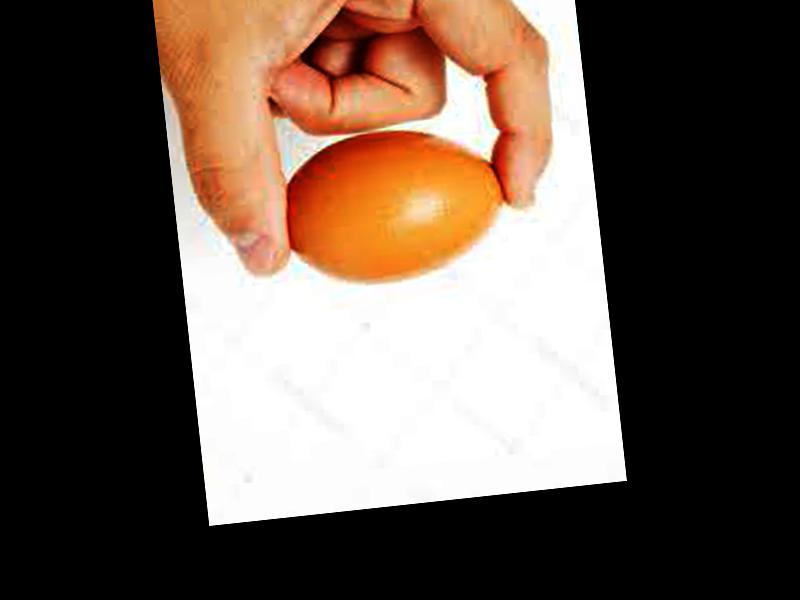Eggs: (278, 118, 516, 293)
